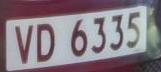3: (90, 12, 110, 58), (108, 11, 128, 55)
5: (125, 9, 144, 54)
6: (68, 13, 91, 63)
D: (34, 18, 59, 67)
V: (12, 22, 35, 67)
